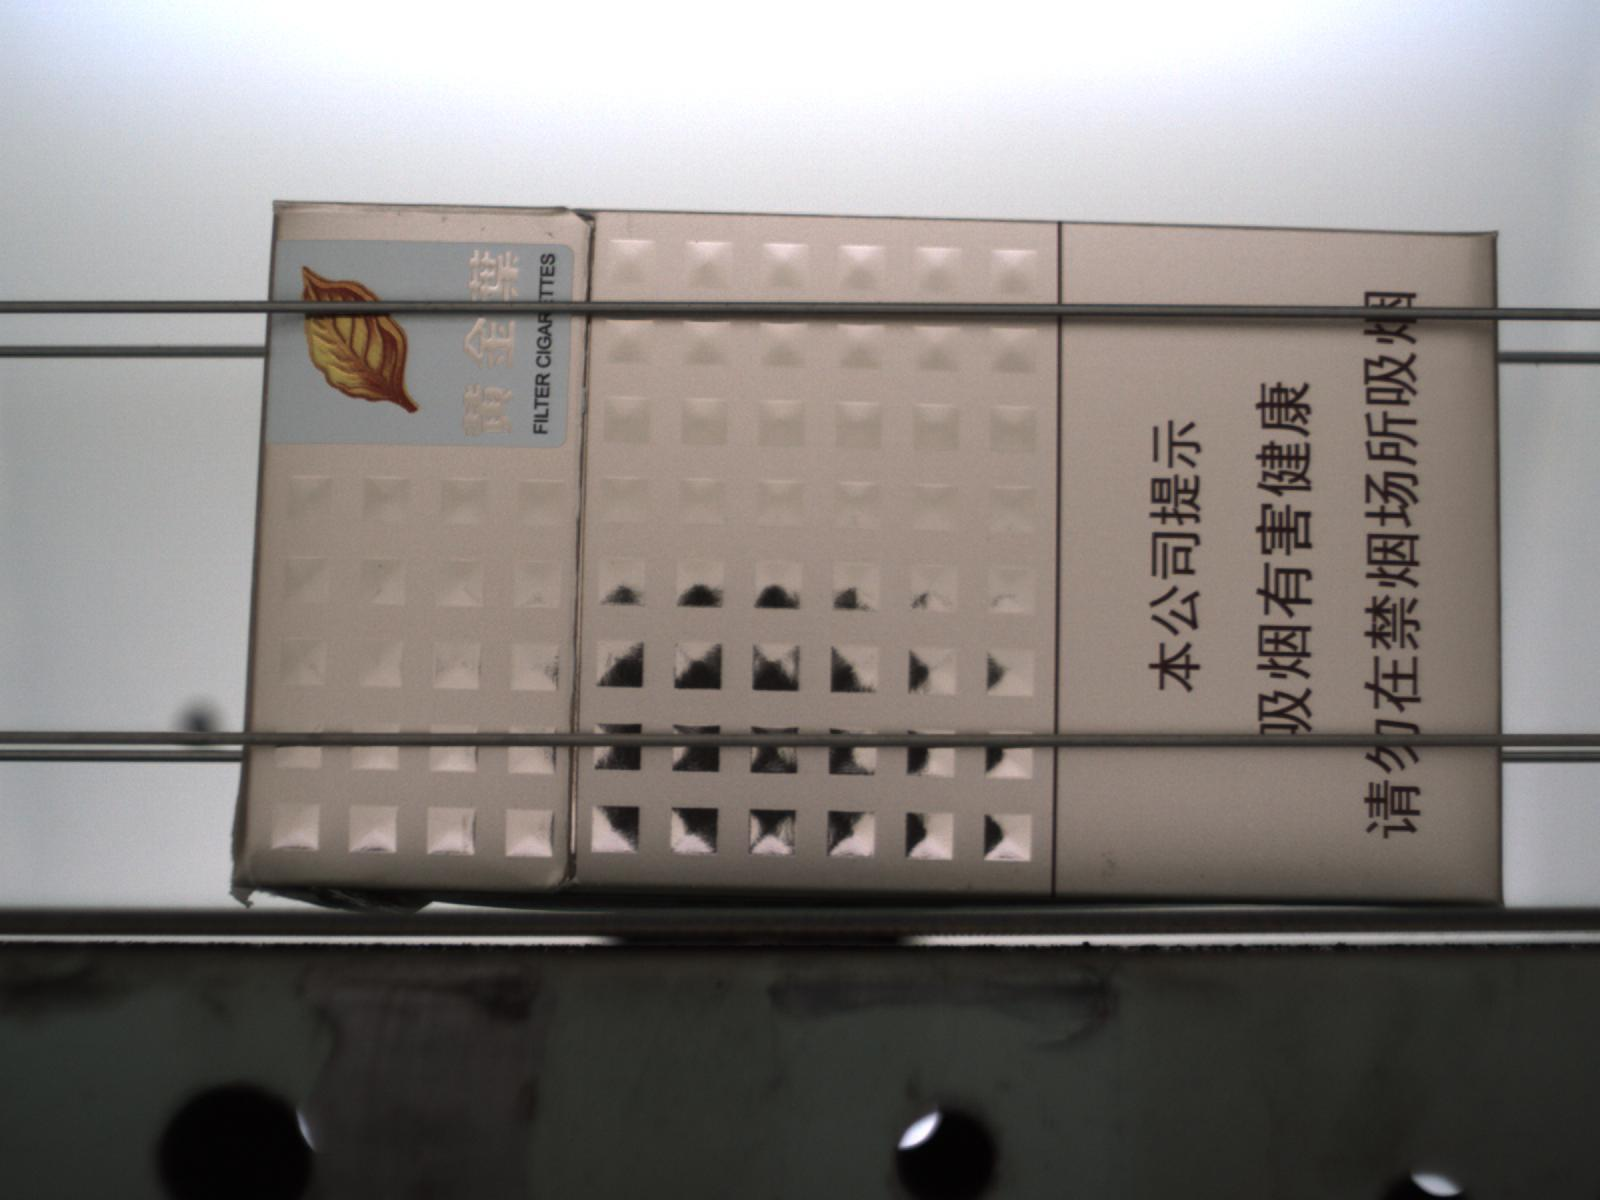crease_corner_heavy: (226, 850, 273, 911)
dirtySpot: (1100, 851, 1120, 879), (1197, 872, 1209, 884), (440, 213, 451, 224), (546, 229, 554, 238), (480, 224, 488, 233)
lower_upwarp: (228, 879, 569, 913)
